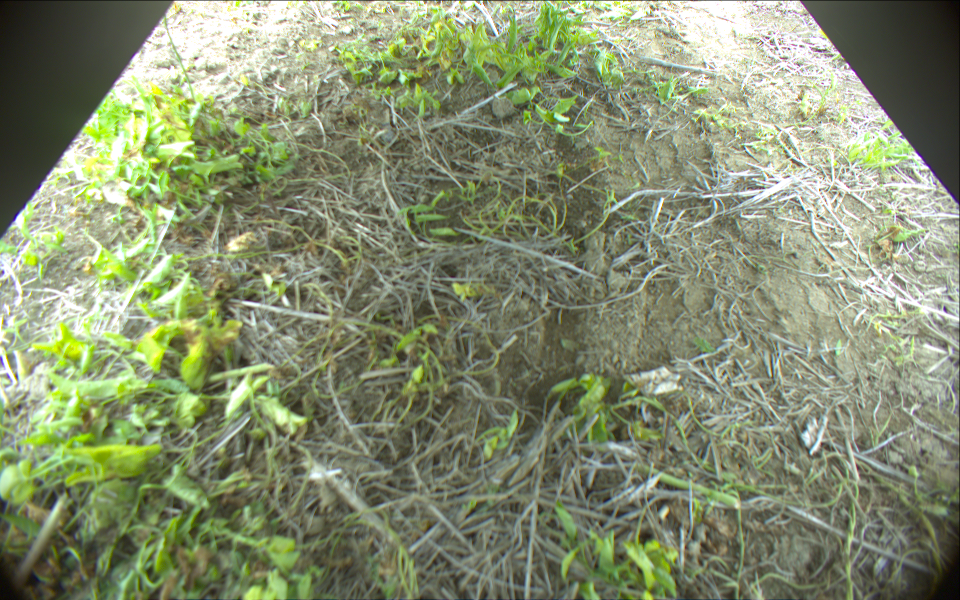aspa: (162, 11, 197, 103)
